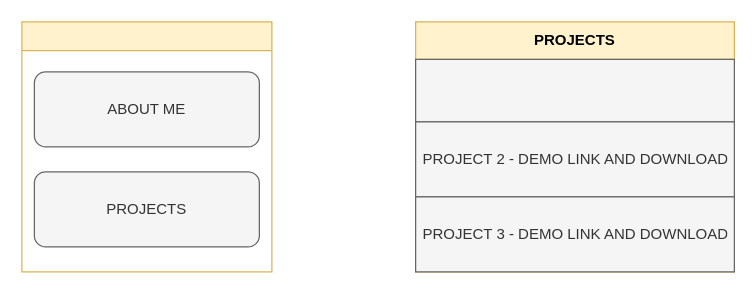
Some shapes in this 756 by 294 pixel diagram are drawn without their labels. Here are the shapes that lost their labels. From the top down, the box of each, then its label:
(414, 58, 734, 122): PROJECT 1 - DEMO LINK AND DOWNLOAD
(21, 21, 272, 272): LINKS MENU ITEMS
